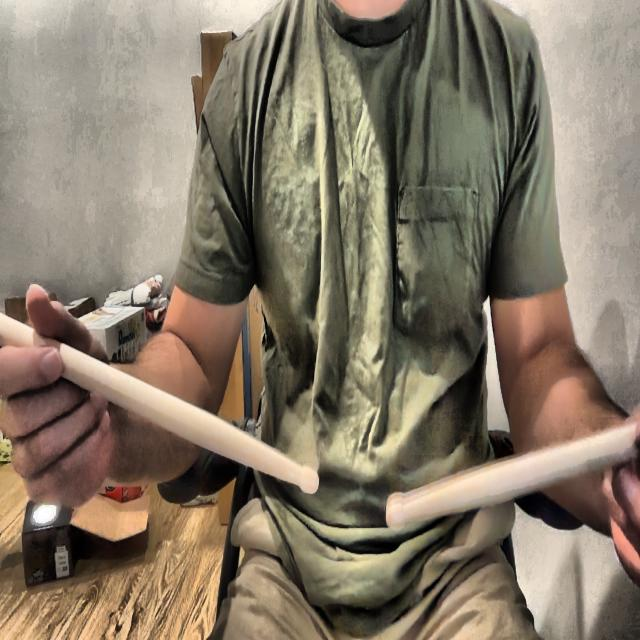Drumstick-Heads: (298, 454, 324, 504), (386, 488, 408, 540)
